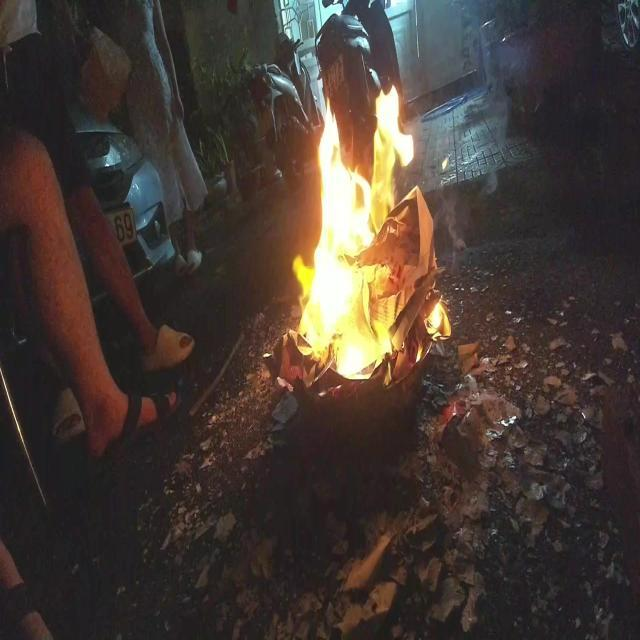Fire: (292, 84, 452, 389)
